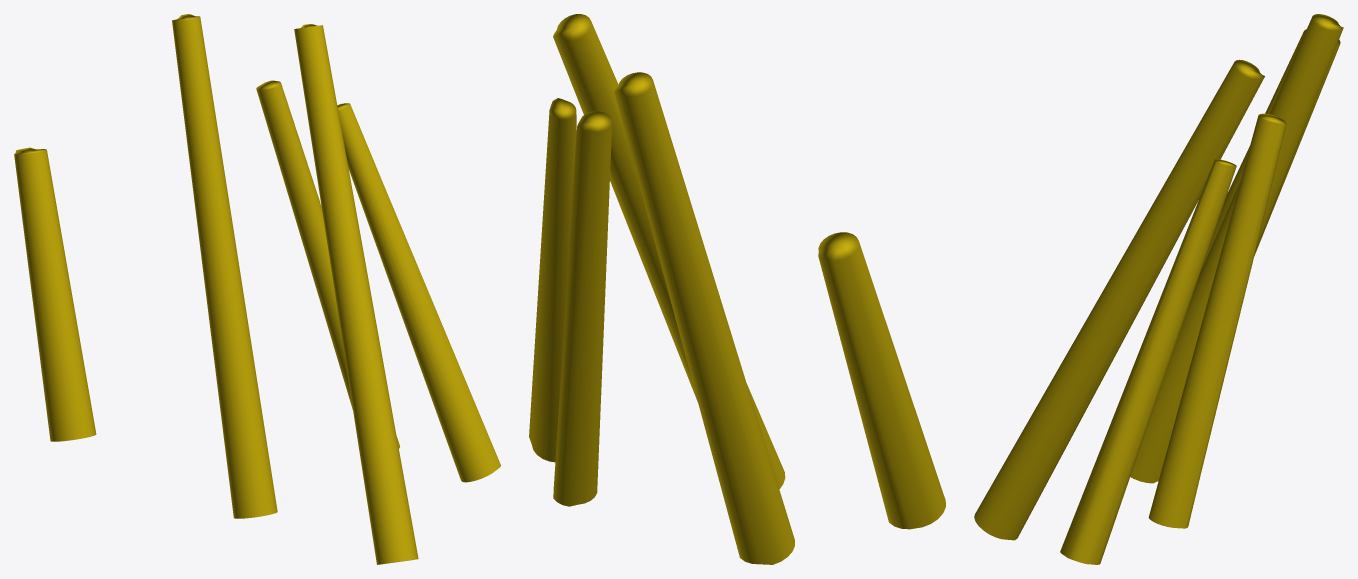
Rendered from sunRayesSmaller.fbx.
3 renders of one model, left to right at view 1: azimuth 30°, elevation 25°; view 2: azimuth 150°, elevation 25°; view 3: azimuth 270°, elevation 25°, orthographic. The views are drawn at different scales.
Parts seen in each view (by area): view 1: Path:pCylinder4, Path:pCylinder3, Path:pCylinder6, Path:pCylinder2, Path:pCylinder5; view 2: Path:pCylinder3, Path:pCylinder2, Path:pCylinder5, Path:pCylinder6, Path:pCylinder4; view 3: Path:pCylinder4, Path:pCylinder5, Path:pCylinder6, Path:pCylinder3, Path:pCylinder2.
Part boxes in pixels (x1,y1,x2,y2): Path:pCylinder4: [294, 24, 418, 564]; Path:pCylinder3: [172, 14, 277, 518]; Path:pCylinder6: [337, 103, 500, 482]; Path:pCylinder2: [14, 147, 96, 441]; Path:pCylinder5: [256, 80, 399, 448]; Path:pCylinder3: [614, 72, 794, 564]; Path:pCylinder2: [818, 232, 945, 529]; Path:pCylinder5: [553, 111, 612, 506]; Path:pCylinder6: [529, 98, 576, 462]; Path:pCylinder4: [553, 14, 785, 489]; Path:pCylinder4: [974, 59, 1264, 540]; Path:pCylinder5: [1148, 113, 1286, 528]; Path:pCylinder6: [1060, 159, 1236, 564]; Path:pCylinder3: [1130, 14, 1343, 483]; Path:pCylinder2: [1201, 29, 1340, 269].
Bounding box in the file's own units: 3 × 3.4 × 2.33.
